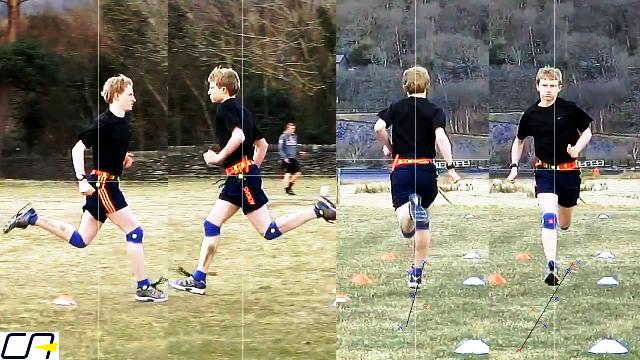berlari: (3, 72, 166, 310), (175, 62, 337, 292), (502, 57, 598, 292), (370, 57, 462, 299)
